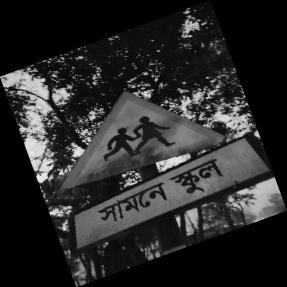School-in-front: (57, 85, 278, 253)
